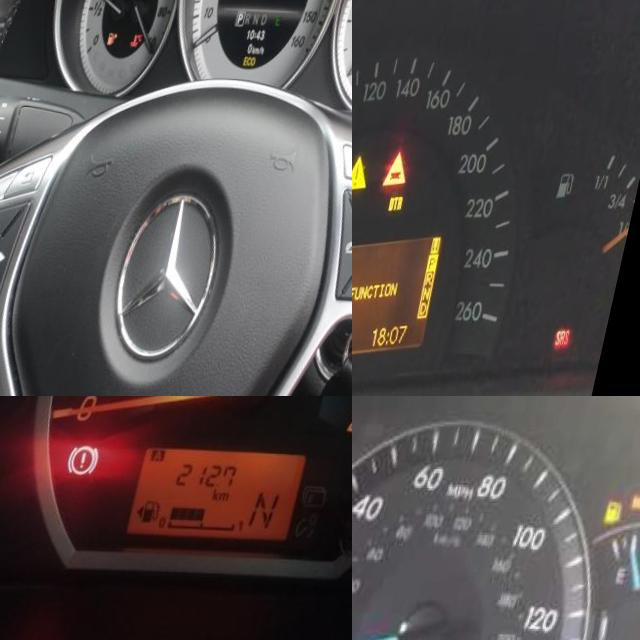Central Warning lamp: (355, 153, 386, 190)
Engine cooling system: (141, 32, 154, 45)
